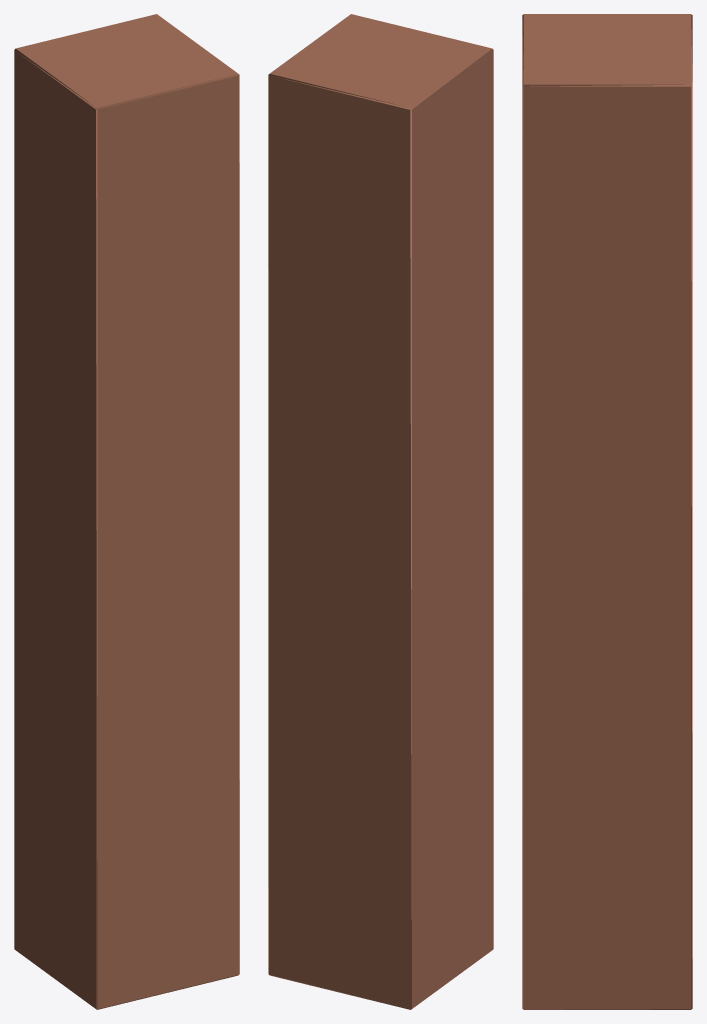
The model's file is SM_VB_FacB_CornerUpper.fbx.
3 renders of one model, left to right at view 1: azimuth 30°, elevation 25°; view 2: azimuth 150°, elevation 25°; view 3: azimuth 270°, elevation 25°, orthographic. The views are drawn at different scales.
Visible parts, largest first — view 1: SM_VB_FacB_CornerUpper; view 2: SM_VB_FacB_CornerUpper; view 3: SM_VB_FacB_CornerUpper.
Boxes of the visible parts, box(x1,y1,x2,y2) form: SM_VB_FacB_CornerUpper: box(14, 14, 239, 1009); SM_VB_FacB_CornerUpper: box(268, 14, 493, 1009); SM_VB_FacB_CornerUpper: box(522, 14, 692, 1009).
Size of the model in its own units: 0.5 by 3 by 0.5.
